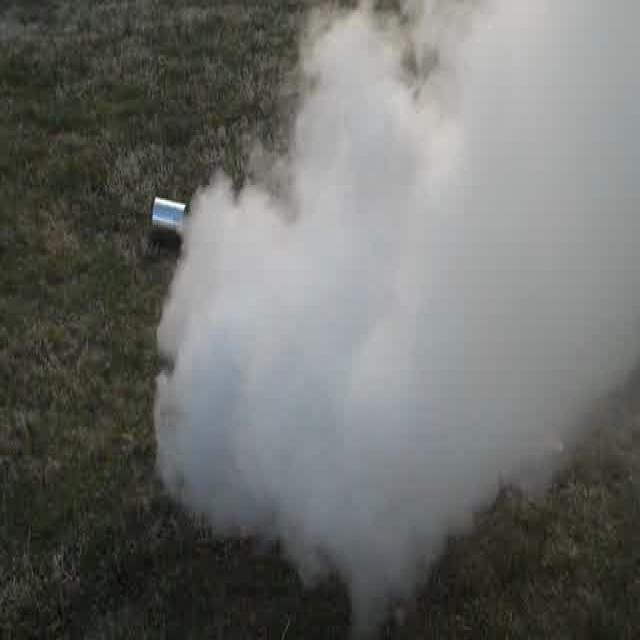Smoke: (189, 10, 636, 572)
